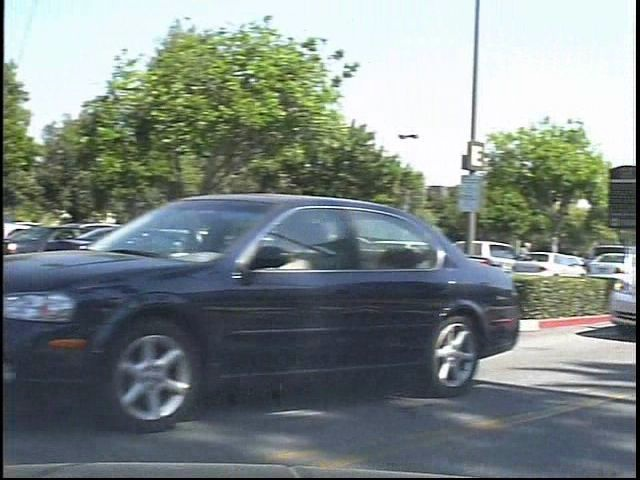person: (523, 233, 550, 288)
